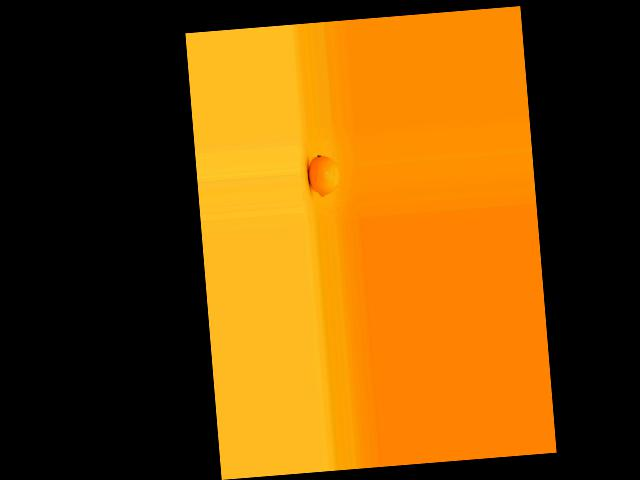lemon: (307, 149, 342, 204)
